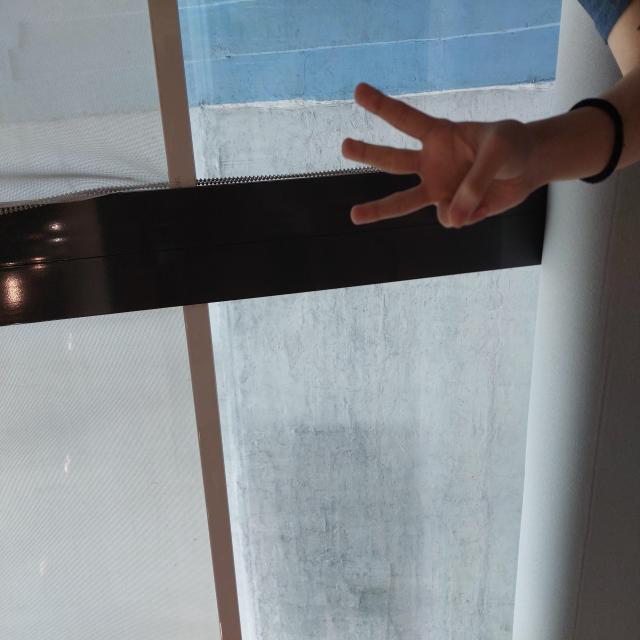W: (411, 341, 558, 521)
